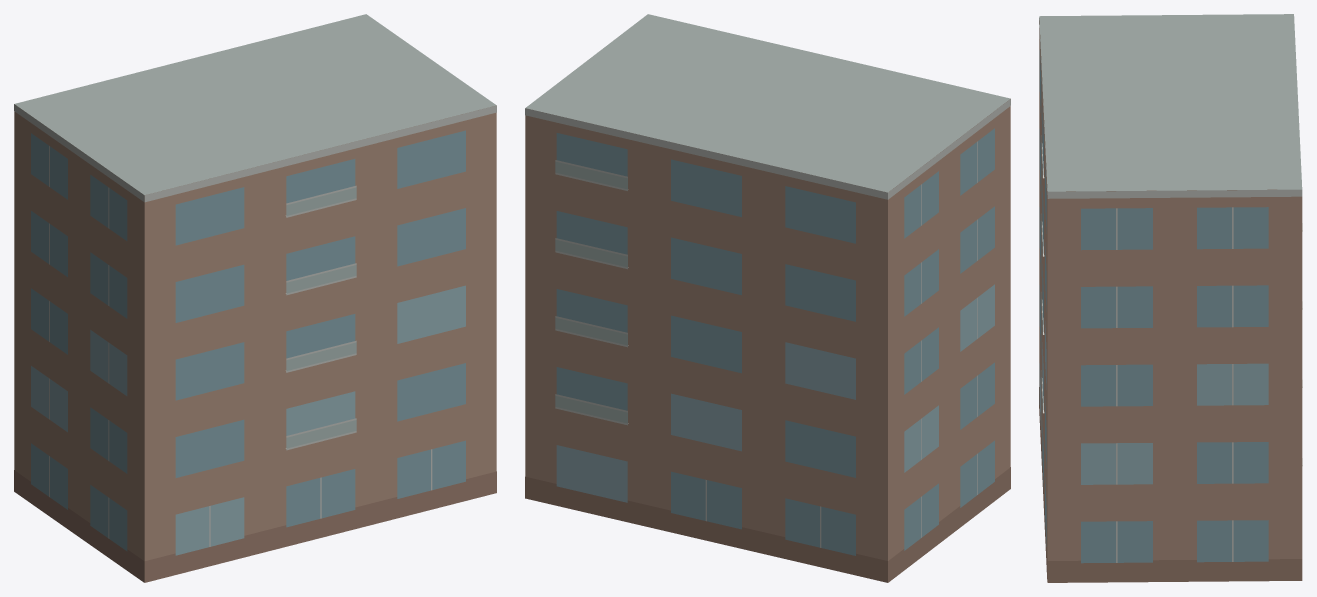
The model's file is survey-upis-32893309.glb.
3 renders of one model, left to right at view 1: azimuth 30°, elevation 25°; view 2: azimuth 150°, elevation 25°; view 3: azimuth 270°, elevation 25°, orthographic.
Parts seen in each view (by area): view 1: survey-upis-32893309.tmp; view 2: survey-upis-32893309.tmp; view 3: survey-upis-32893309.tmp.
Part boxes in pixels (x1=…): survey-upis-32893309.tmp: x1=14, y1=14, x2=496, y2=582; survey-upis-32893309.tmp: x1=525, y1=14, x2=1010, y2=582; survey-upis-32893309.tmp: x1=1039, y1=14, x2=1302, y2=582.
Size of the model in its own units: 12.86 by 13.2 by 8.07.
